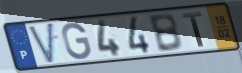4: (97, 17, 123, 58), (128, 14, 152, 56)
B: (146, 12, 184, 54)
G: (61, 21, 93, 61)
T: (180, 10, 206, 48)
V: (26, 21, 56, 66)
